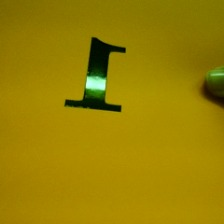orange1: (60, 28, 132, 118)
